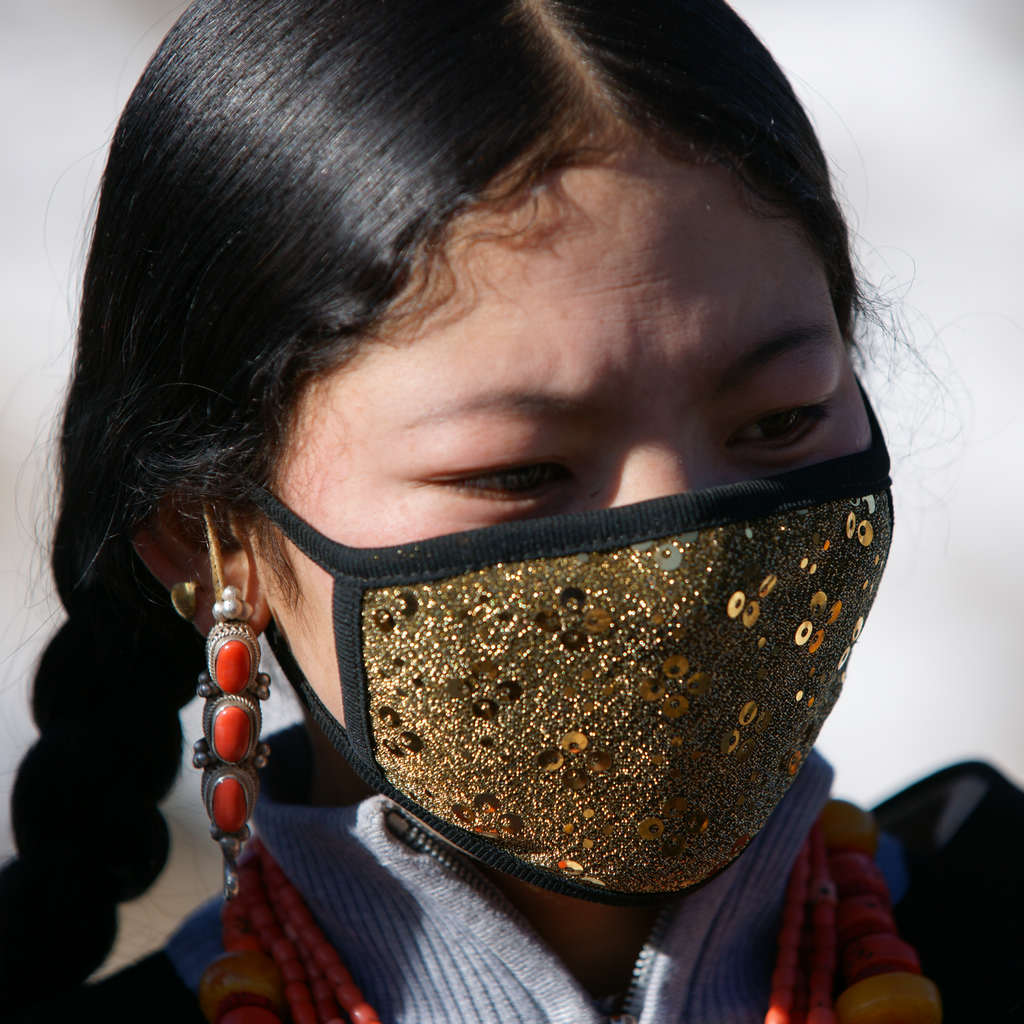face_mask: (284, 160, 892, 871)
